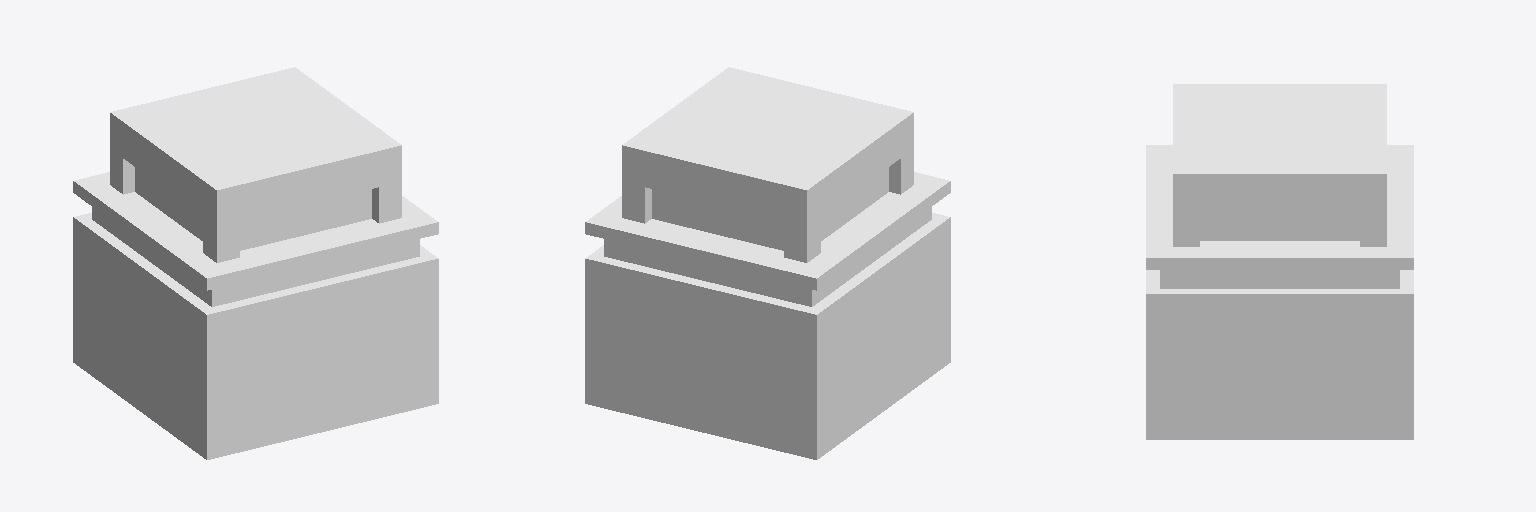
The model's file is nature-walledge.obj.
3 renders of one model, left to right at view 1: azimuth 30°, elevation 25°; view 2: azimuth 150°, elevation 25°; view 3: azimuth 270°, elevation 25°, orthographic.
Visible parts, largest first — view 1: nature-walledge; view 2: nature-walledge; view 3: nature-walledge.
Boxes of the visible parts, x1,y1,x2,y2 form: nature-walledge: [73, 67, 438, 459]; nature-walledge: [585, 67, 950, 459]; nature-walledge: [1146, 84, 1413, 439].
Bounding box in the file's own units: 20 × 21 × 20.